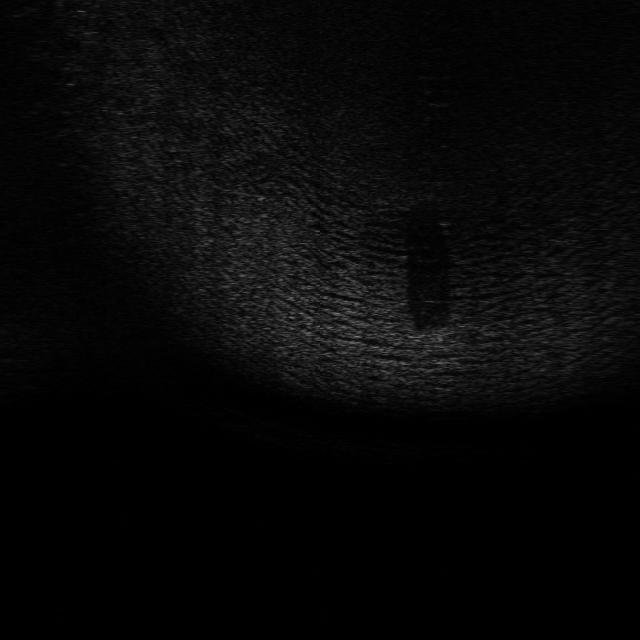cube: (414, 323, 454, 352)
